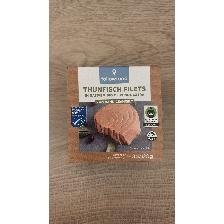Fisch: (67, 65, 166, 163)
